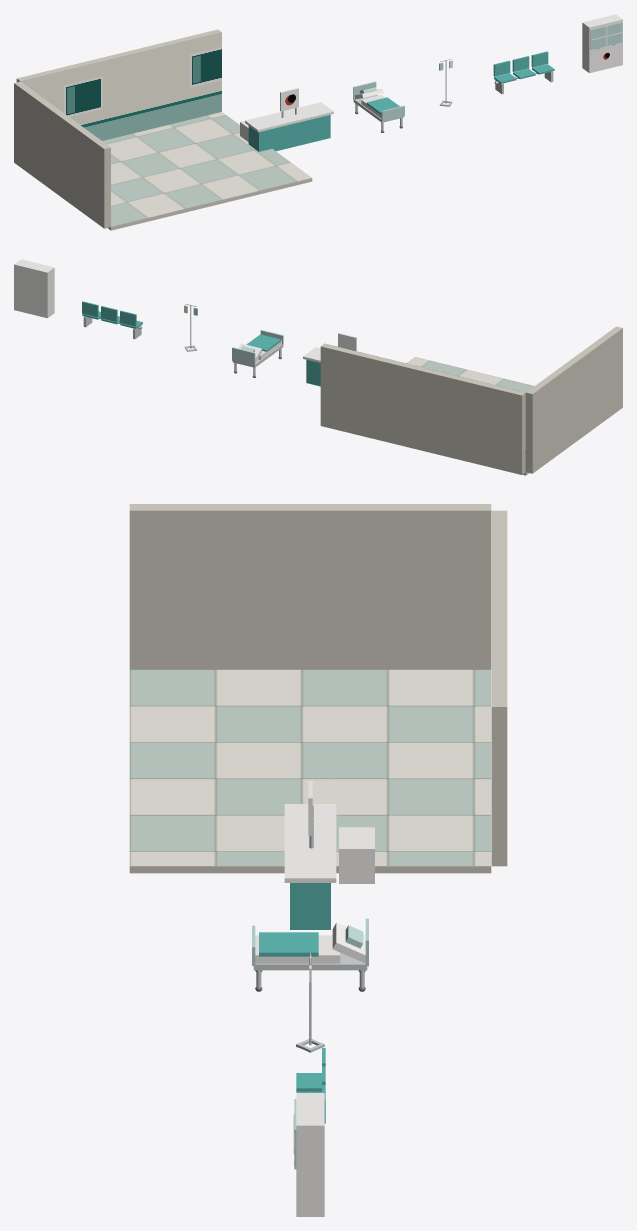
Rendered from kit-15-interior-rumah-sakit.glb.
3 views of the same model, one above another, from view 1: azimuth 30°, elevation 25°; view 2: azimuth 150°, elevation 25°; view 3: azimuth 270°, elevation 25° (orthographic). The views are drawn at different scales.
Parts seen in each view (by area): view 1: RSIn_RuangRawat, RSIn_Resepsionis, RSIn_LemariObat, RSIn_BangkuTunggu, RSIn_RanjangPasien; view 2: RSIn_RuangRawat, RSIn_LemariObat, RSIn_RanjangPasien, RSIn_BangkuTunggu, RSIn_Resepsionis; view 3: RSIn_RuangRawat, RSIn_Resepsionis, RSIn_RanjangPasien, RSIn_LemariObat.
Boxes of the visible parts, x1,y1,x2,y2 form: RSIn_RuangRawat: [14, 29, 312, 230]; RSIn_Resepsionis: [240, 88, 333, 151]; RSIn_LemariObat: [582, 14, 622, 73]; RSIn_BangkuTunggu: [493, 51, 554, 94]; RSIn_RanjangPasien: [353, 81, 404, 132]; RSIn_RuangRawat: [320, 326, 622, 475]; RSIn_LemariObat: [14, 259, 54, 318]; RSIn_RanjangPasien: [232, 330, 283, 377]; RSIn_BangkuTunggu: [82, 301, 142, 339]; RSIn_Resepsionis: [303, 333, 356, 386]; RSIn_RuangRawat: [129, 504, 507, 873]; RSIn_Resepsionis: [284, 781, 374, 929]; RSIn_RanjangPasien: [252, 918, 368, 991]; RSIn_LemariObat: [293, 1093, 324, 1216].
Bounding box in the file's own units: 25.05 × 3.55 × 7.31.
9 materials, 3 textured.
